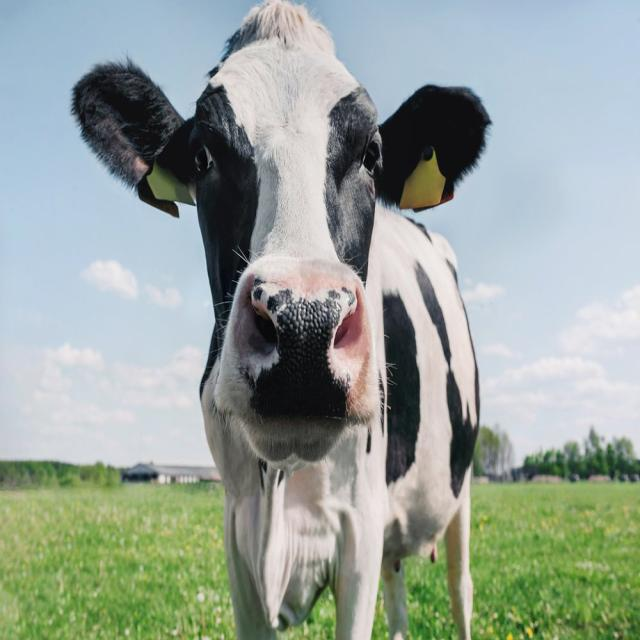cow: (169, 24, 388, 425)
